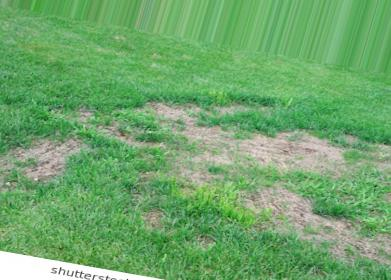patch: (170, 115, 301, 177), (262, 188, 319, 235), (294, 135, 350, 177), (16, 142, 75, 171), (131, 198, 177, 230), (323, 218, 376, 245)
